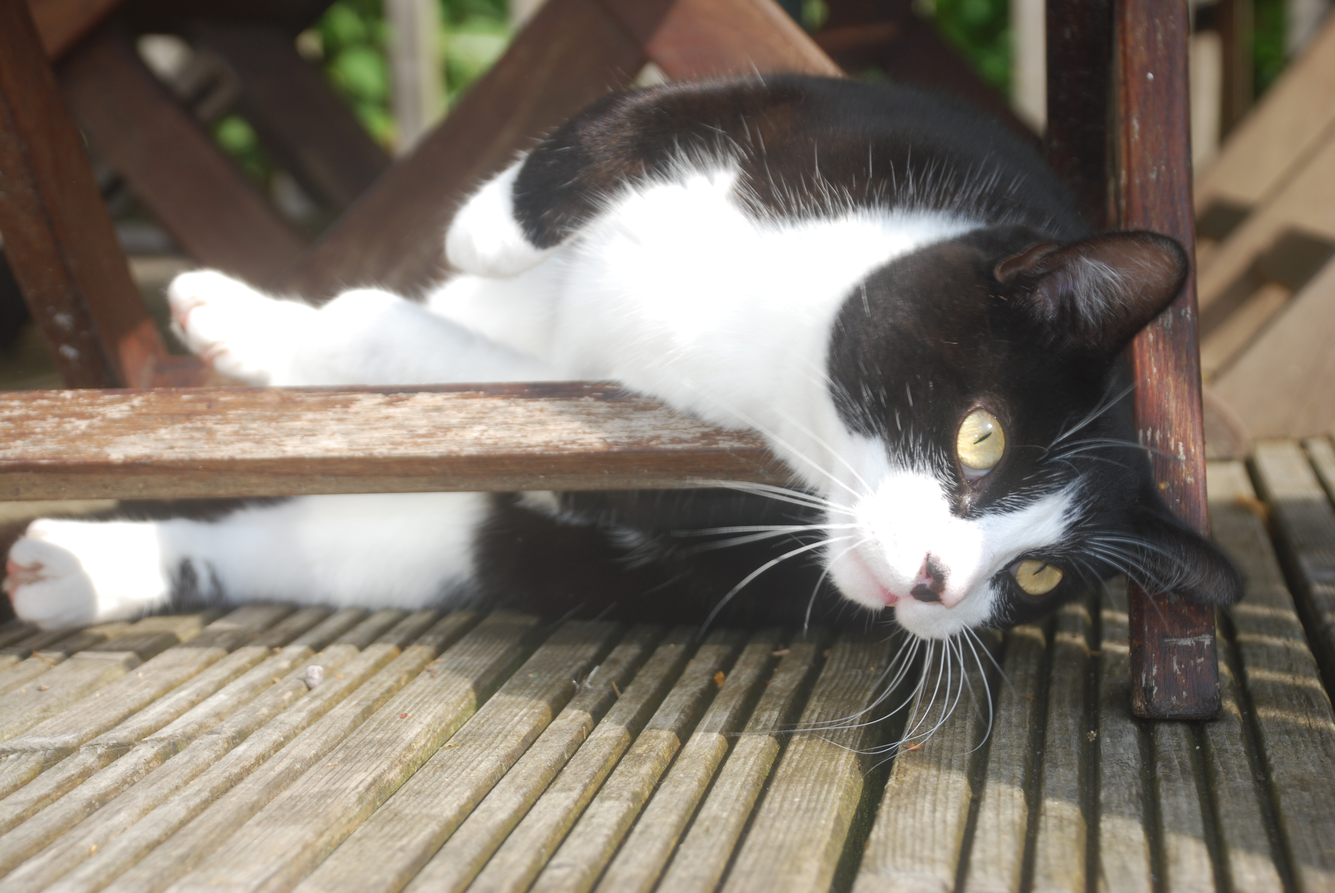cat: (0, 54, 1243, 777)
